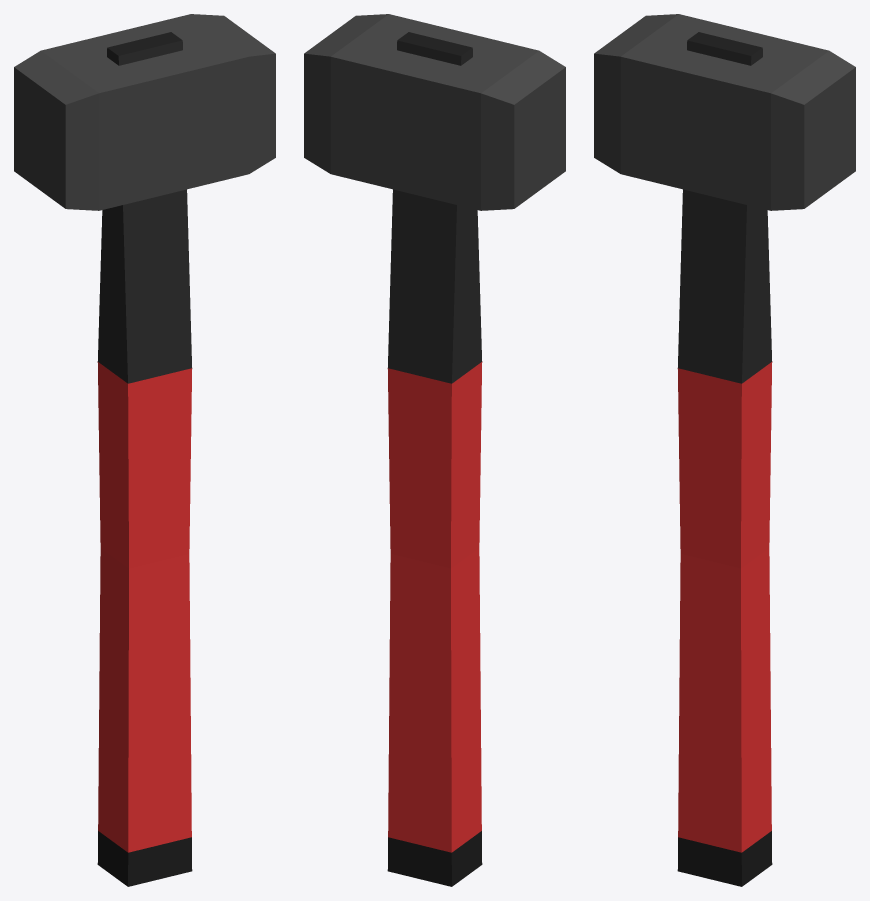
Rendered from SledgeHammer2.fbx.
The picture shows the model from 3 angles, left to right: view 1: azimuth 30°, elevation 25°; view 2: azimuth 150°, elevation 25°; view 3: azimuth 330°, elevation 25°; orthographic projection.
Parts seen in each view (by area): view 1: SledgeHammer2; view 2: SledgeHammer2; view 3: SledgeHammer2.
Part boxes in pixels (bbox=[...]): SledgeHammer2: bbox=[14, 14, 275, 886]; SledgeHammer2: bbox=[304, 14, 565, 886]; SledgeHammer2: bbox=[594, 14, 855, 886].
Size of the model in its own units: 0.2274 by 0.8517 by 0.1092.
